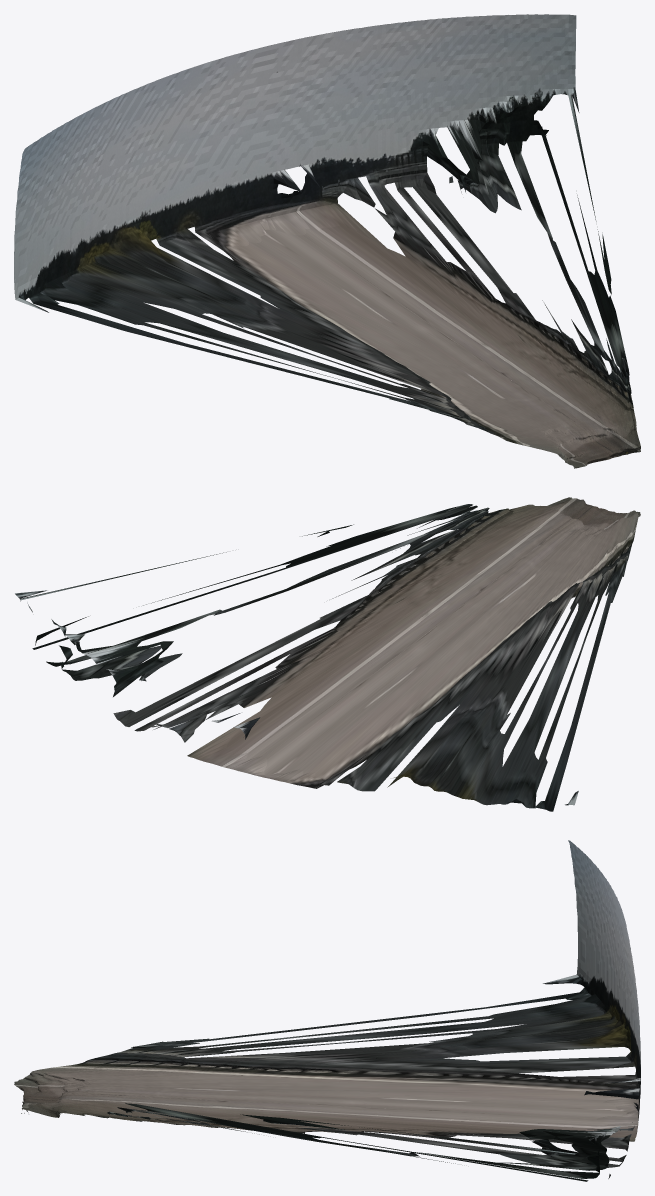
The picture shows the model from 3 angles, top to bottom: view 1: azimuth 30°, elevation 25°; view 2: azimuth 150°, elevation 25°; view 3: azimuth 270°, elevation 25°; orthographic projection. The views are drawn at different scales.
Parts seen in each view (by area): view 1: defaultobject; view 2: defaultobject; view 3: defaultobject.
Boxes of the visible parts, <box> form: defaultobject: <box>14,14,640,468</box>; defaultobject: <box>15,497,640,811</box>; defaultobject: <box>14,840,640,1181</box>.
Size of the model in its own units: 41.11 by 12.79 by 44.53.
1 material, 1 textured.
